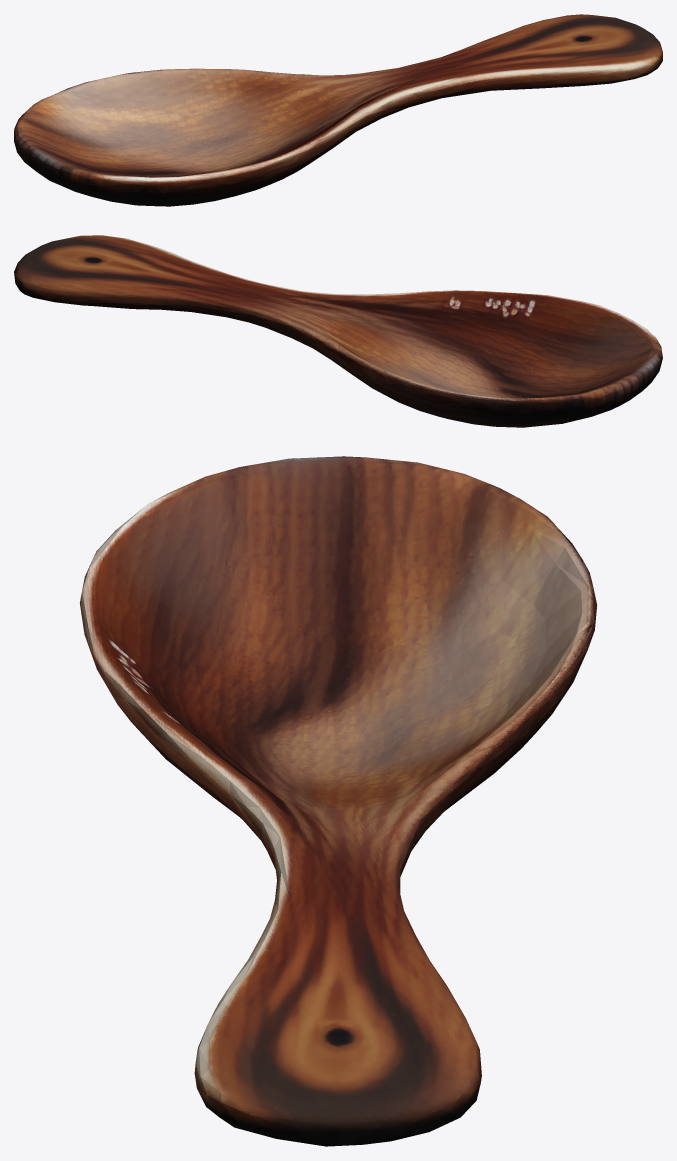
Rendered from wooden-bushcraft-spoon-futuristic.jpeg.glb.
The picture shows the model from 3 angles, top to bottom: view 1: azimuth 30°, elevation 25°; view 2: azimuth 150°, elevation 25°; view 3: azimuth 270°, elevation 25°; orthographic projection. The views are drawn at different scales.
Parts seen in each view (by area): view 1: world; view 2: world; view 3: world.
Part boxes in pixels (box(x1,y1,x2,y2)): world: box(14, 14, 662, 206); world: box(14, 235, 662, 427); world: box(80, 456, 597, 1146).
Bounding box in the file's own units: 1 × 0.1099 × 0.3611.
1 material, 1 textured.
